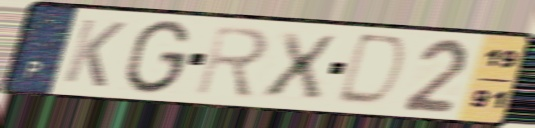2: (401, 36, 473, 116)
D: (331, 31, 412, 111)
G: (120, 17, 195, 97)
K: (59, 16, 130, 91)
R: (192, 23, 272, 100)
X: (259, 29, 341, 101)
